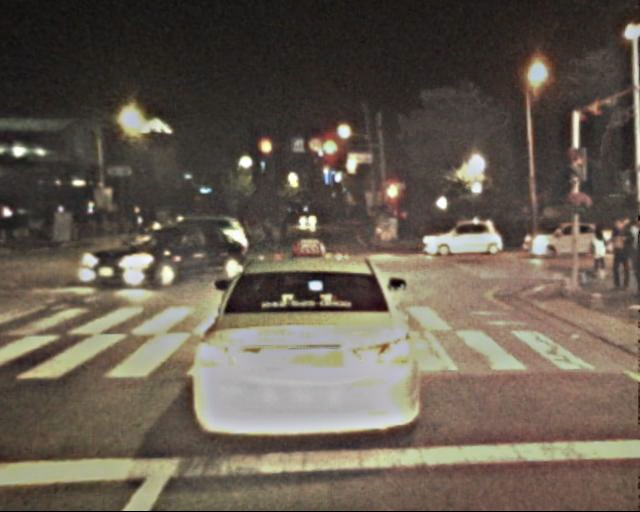person: (605, 218, 635, 290), (588, 228, 609, 279), (257, 216, 272, 253), (276, 217, 290, 252)
